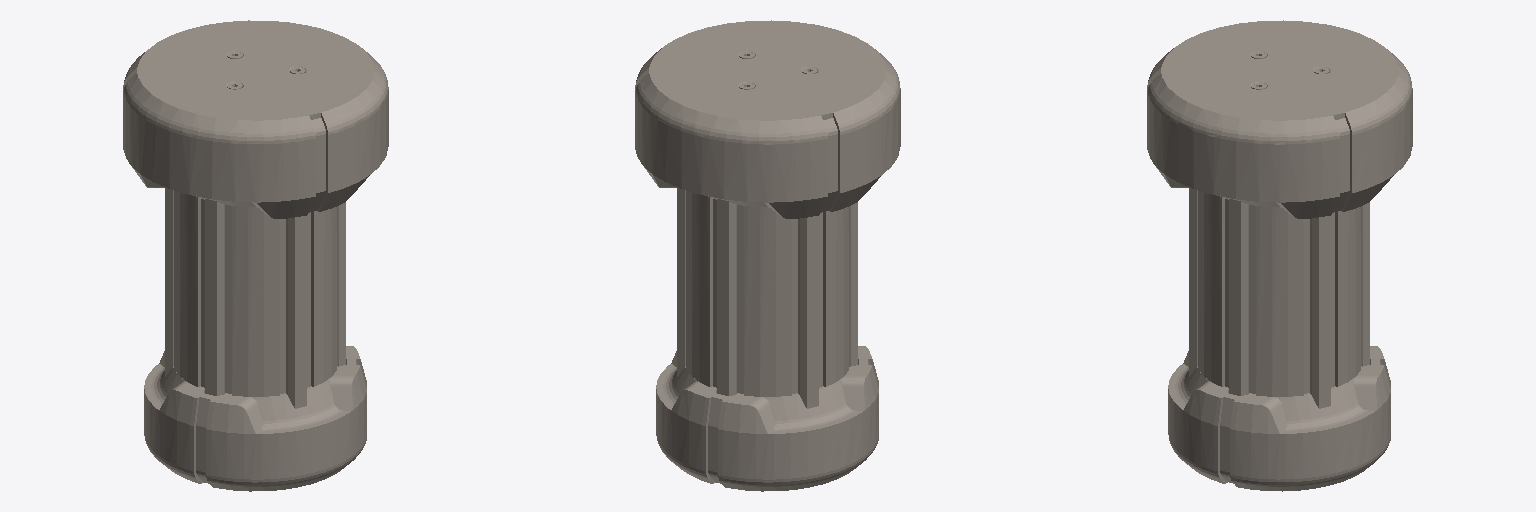
The robot description file, URDF, robot "energy_core":
<?xml version="1.0" encoding="utf-8"?>
<!-- This URDF was automatically created by SolidWorks to URDF Exporter! Originally created by Stephen Brawner (brawner@gmail.com) 
     Commit Version: 1.6.0-4-g7f85cfe  Build Version: 1.6.7995.38578
     For more information, please see http://wiki.ros.org/sw_urdf_exporter -->
<robot
  name="energy_core">
  <link
    name="base_link">
    <inertial>
      <origin
        xyz="3.86998478861346E-09 0.07763472189851 5.40664036253452E-08"
        rpy="0 0 0" />
      <mass
        value="0.446857635153164" />
      <inertia
        ixx="0.000502026047470546"
        ixy="-2.87873696598622E-11"
        ixz="-5.36878032225002E-10"
        iyy="0.000395227922432565"
        iyz="-1.63105363801643E-10"
        izz="0.000502025810306512" />
    </inertial>
    <visual>
      <origin
        xyz="0 0 0"
        rpy="0 0 0" />
      <geometry>
        <mesh
          filename="package://arv_v1_model/meshes/obstacles/energy_core.STL" />
      </geometry>
      <material
        name="">
        <color
          rgba="0.650980392156863 0.619607843137255 0.588235294117647 1" />
      </material>
    </visual>
    <collision>
      <origin
        xyz="0 0 0"
        rpy="0 0 0" />
      <geometry>
        <mesh
          filename="package://arv_v1_model/meshes/obstacles/energy_core.STL" />
      </geometry>
    </collision>
  </link>
</robot>

--- What the picture shows (computed from the rendered views, not written in the file) ---
The picture shows the robot from 3 angles, left to right: view 1: azimuth 30°, elevation 25°; view 2: azimuth 150°, elevation 25°; view 3: azimuth 270°, elevation 25°; orthographic projection.
Model energy_core with 1 links and 0 joints (none), rooted at base_link, posed every joint at zero.
Visible links, largest first — view 1: base_link; view 2: base_link; view 3: base_link.
Boxes of the visible links, x1,y1,x2,y2 form: base_link: [123, 20, 388, 491]; base_link: [635, 20, 900, 491]; base_link: [1147, 20, 1412, 491].
Bounding box of the posed robot: 0.095 × 0.0949 × 0.1501 m (x, y, z).
Meshes: 1 distinct files referenced, 1 mesh visuals loaded (1 binary STL).
